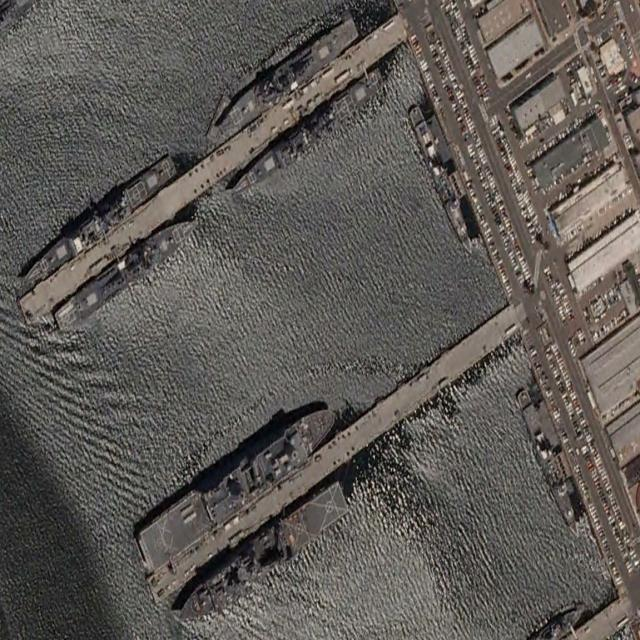Auxiliary Ships: (130, 387, 344, 581), (170, 475, 350, 635)
Cruiser: (20, 149, 178, 295), (227, 63, 388, 206)
Destroyer: (52, 203, 203, 340), (215, 9, 361, 142)
Other Ship: (405, 101, 479, 261), (513, 383, 586, 541)
